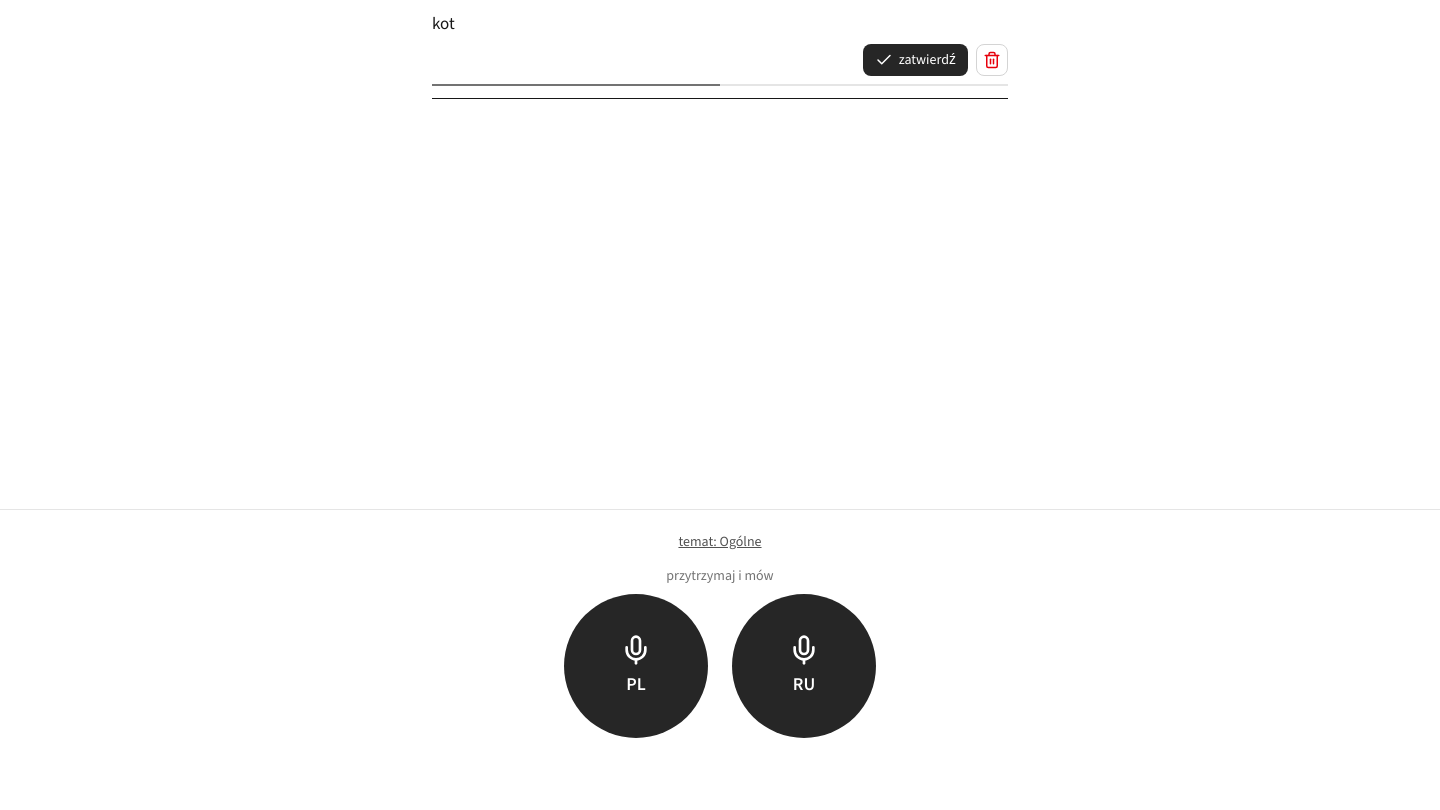
Test case: AddPage slow and failing chip controls › shows a notice when a delete is refused
Click the button named "usuń" at [992, 60], box [976,44,1008,76]
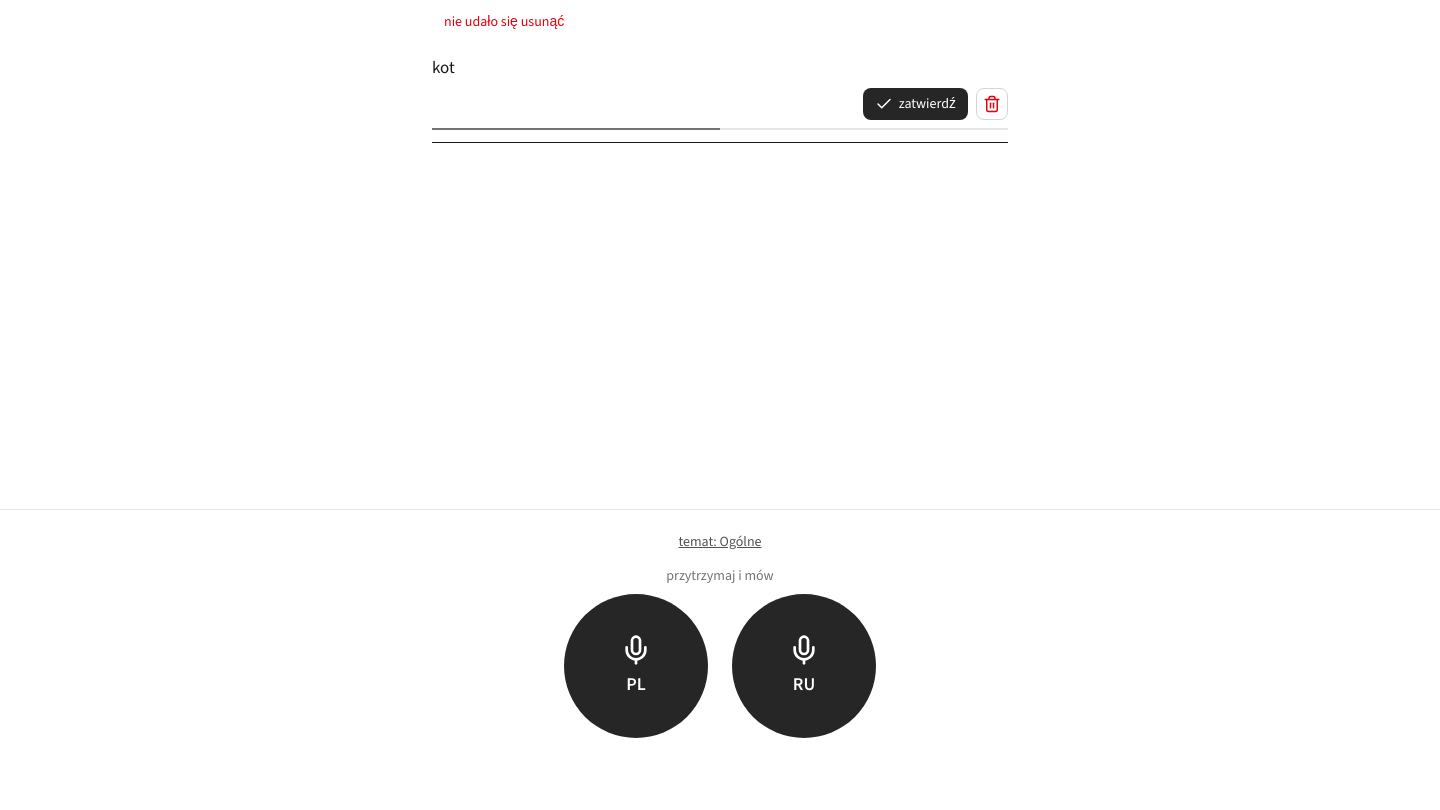
Expected: the text "nie udało się usunąć" is shown, [444,12,564,31]
